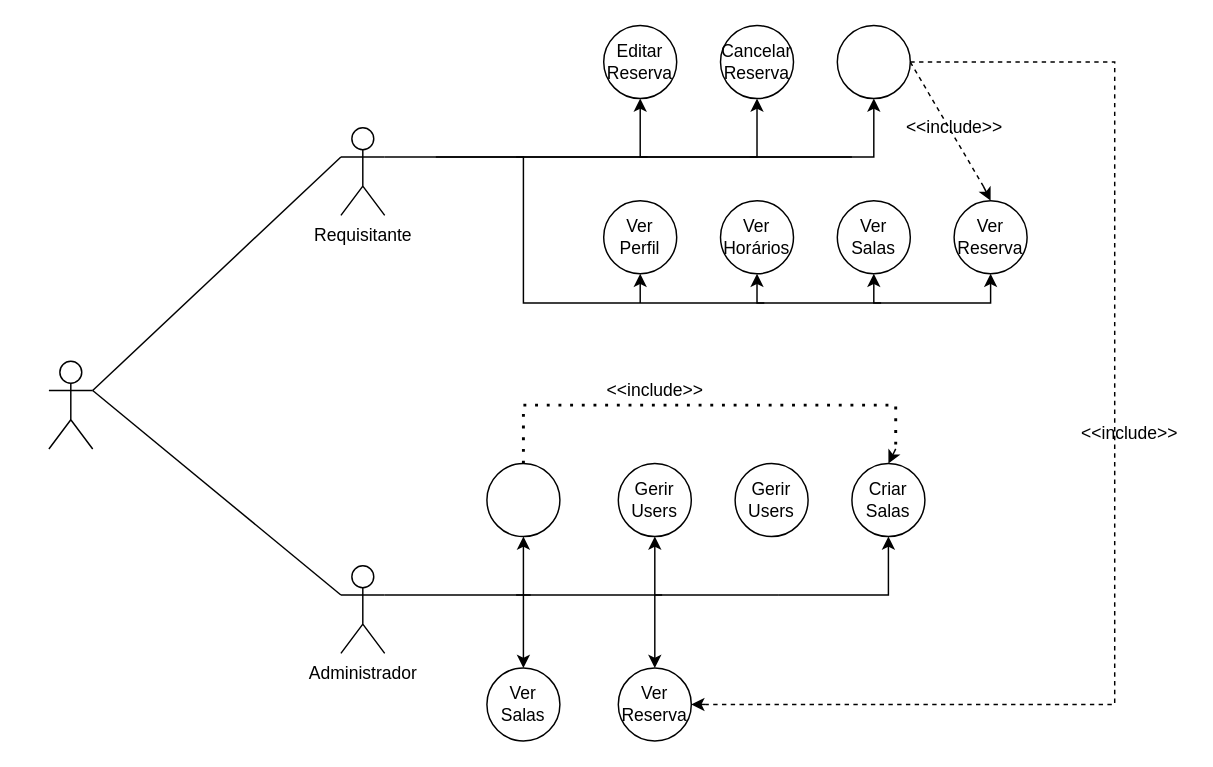
The diagram is 1213 pixels wide and 767 high, and some of its shapes have lost their labels. Here are the shapes that lost their labels. From the top down, the box of each, then its label:
(836, 24, 910, 99): Fazer Reserva
(47, 360, 93, 449): Utilizadores
(485, 462, 560, 537): Gerir Salas
